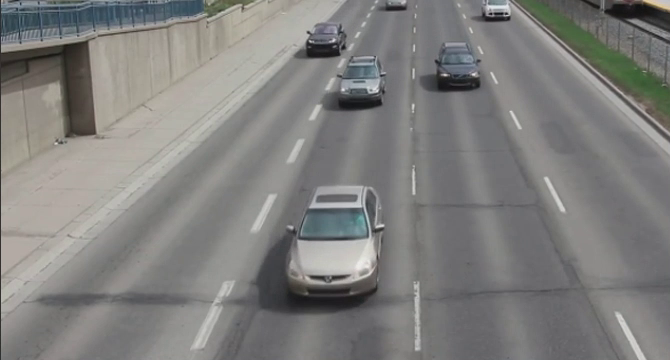car: (280, 181, 392, 304), (336, 56, 390, 114), (434, 45, 485, 95), (304, 19, 350, 58), (481, 1, 518, 24)
